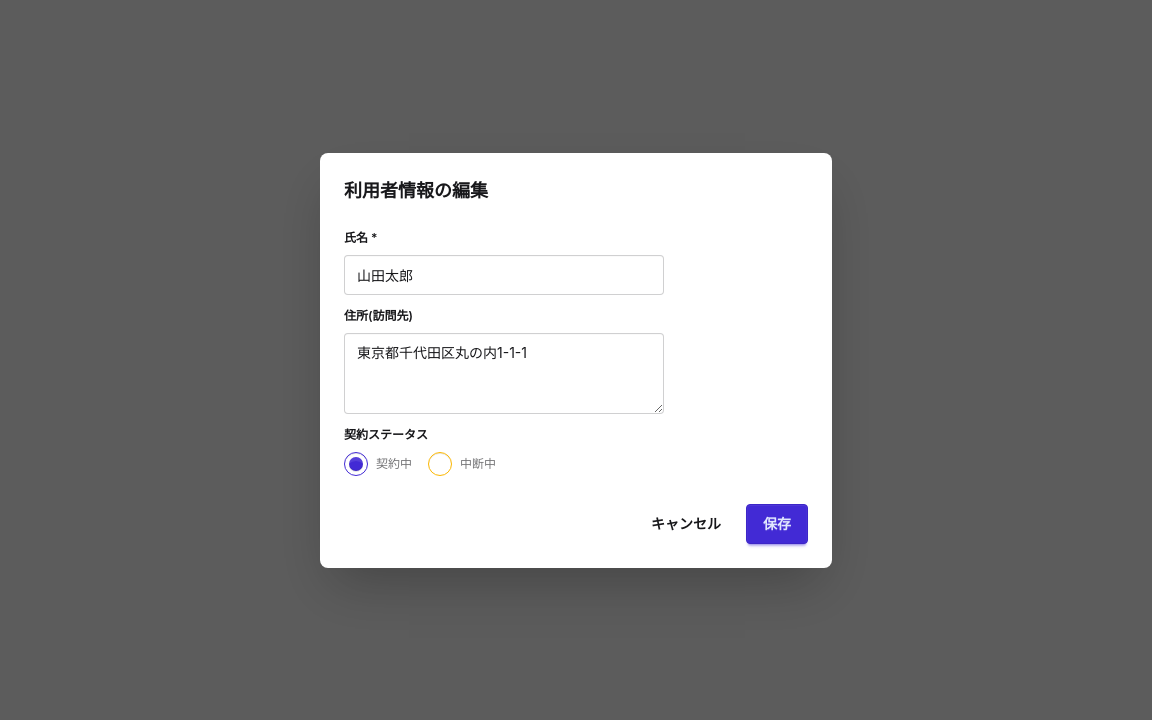
ClientModal › 中断選択時に警告メッセージが表示される
This screenshot has width=1152, height=720.
Click the radio button labelled "中断中".
click(440, 464)  # box [428, 452, 452, 476]
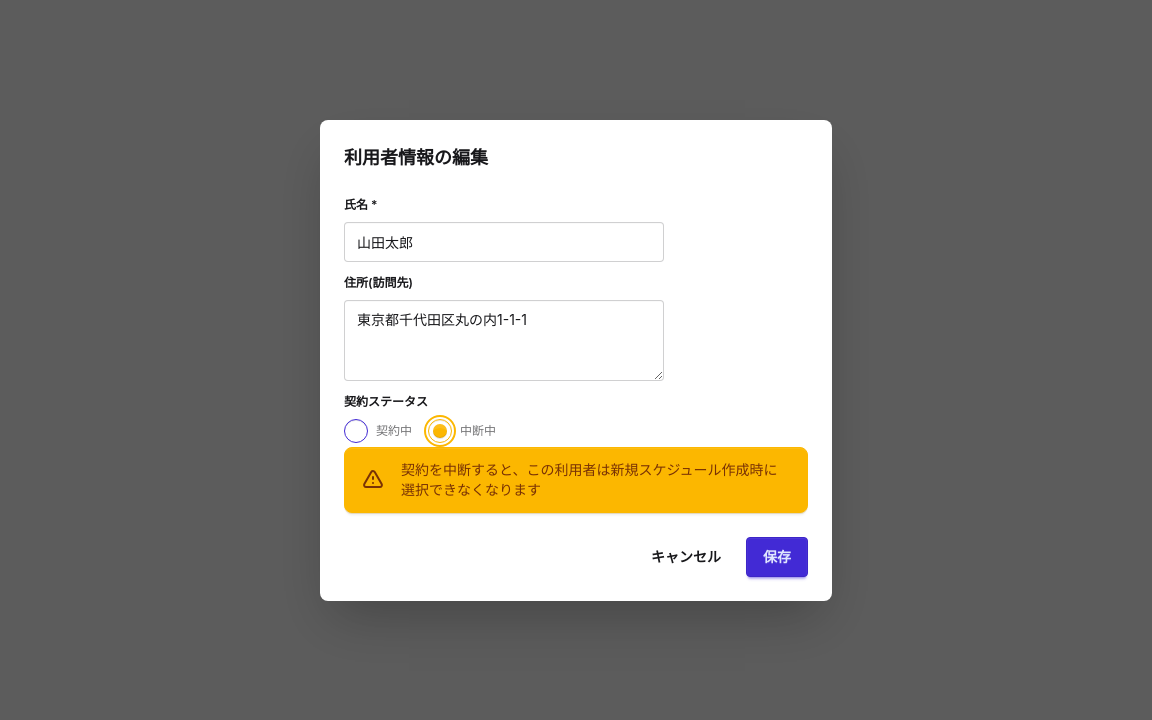
expect the text "契約を中断すると、この利用者は新規スケジュール作成時に選択できなくなります" is shown: met, box [401, 460, 791, 500]
